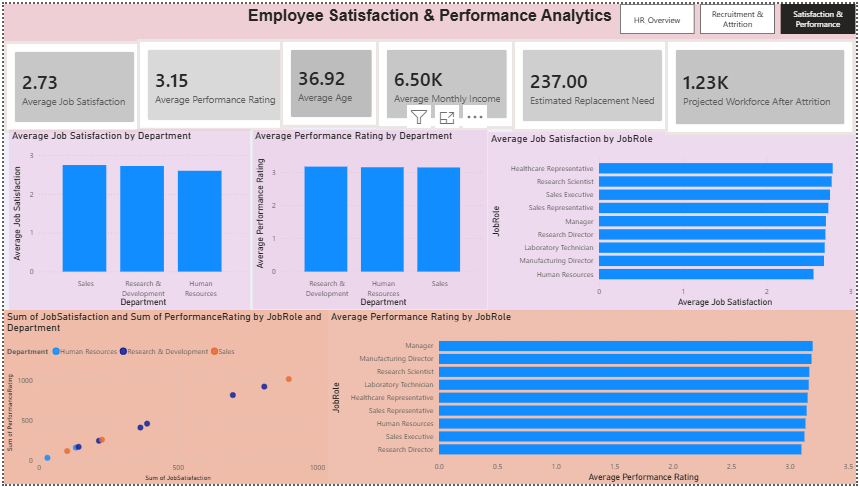

This screenshot's page, from the dashboard's own definition file:
{"tool":"powerbi","page":{"name":"Satisfaction & Performance","canvas":[1420,800],"ordinal":2},"visuals":[{"type":"textbox","box":[0,0,1420,61.7],"z":0},{"type":"cardVisual","fields":{"Data":["HR_Data.Average Job Satisfaction"]},"box":[0,61.7,235,153.3],"z":1000},{"type":"cardVisual","fields":{"Data":["HR_Data.Average Performance Rating"]},"box":[221.4,58,259,153],"z":2000},{"type":"cardVisual","fields":{"Data":["HR_Data.Average Age"]},"box":[460,58.3,171.7,148.3],"z":3000},{"type":"cardVisual","fields":{"Data":["HR_Data.Average Monthly Income"]},"box":[620,58.3,236.7,150],"z":4000},{"type":"clusteredColumnChart","fields":{"Category":["HR_Data.Department"],"Y":["HR_Data.Average Job Satisfaction"]},"box":[8.3,208.3,401.7,301.7],"z":5000},{"type":"clusteredColumnChart","fields":{"Category":["HR_Data.Department"],"Y":["HR_Data.Average Performance Rating"]},"box":[413.3,208.3,393.3,301.7],"z":6000},{"type":"scatterChart","fields":{"X":["Sum(HR_Data.JobSatisfaction)"],"Y":["Sum(HR_Data.PerformanceRating)"],"Series":["HR_Data.Department"],"Category":["HR_Data.JobRole"]},"box":[0,510,540,290],"z":7000},{"type":"barChart","fields":{"Category":["HR_Data.JobRole"],"Y":["HR_Data.Average Performance Rating"]},"box":[540,510,880,291.7],"z":8000},{"type":"barChart","fields":{"Category":["HR_Data.JobRole"],"Y":["HR_Data.Average Job Satisfaction"]},"box":[806.7,213.3,613.3,296.7],"z":9000},{"type":"cardVisual","fields":{"Data":["HR_Data.Estimated Replacement Need"]},"box":[846.7,58.3,268.3,155],"z":10000},{"type":"cardVisual","title":"Projected Workforce","fields":{"Data":["HR_Data.Projected Workforce After Attrition"]},"box":[1102.4,58,317.6,160.3],"z":11000},{"type":"pageNavigator","box":[1027,0,393.2,50],"z":11001}]}

Visuals, with their boxes in screenshot pixels (x1, y1, x2, y2), scaled from the page's 1420x800 canvas onto the 859x487 screenshot:
textbox: rect(0, 0, 858, 38)
cardVisual - HR_Data.Average Job Satisfaction: rect(0, 38, 142, 131)
cardVisual - HR_Data.Average Performance Rating: rect(134, 35, 291, 128)
cardVisual - HR_Data.Average Age: rect(278, 35, 382, 126)
cardVisual - HR_Data.Average Monthly Income: rect(375, 35, 518, 127)
clusteredColumnChart - HR_Data.Department x HR_Data.Average Job Satisfaction: rect(5, 127, 248, 310)
clusteredColumnChart - HR_Data.Department x HR_Data.Average Performance Rating: rect(250, 127, 488, 310)
scatterChart - Sum(HR_Data.JobSatisfaction) x Sum(HR_Data.PerformanceRating): rect(0, 310, 327, 486)
barChart - HR_Data.JobRole x HR_Data.Average Performance Rating: rect(327, 310, 858, 486)
barChart - HR_Data.JobRole x HR_Data.Average Job Satisfaction: rect(488, 130, 858, 310)
cardVisual - HR_Data.Estimated Replacement Need: rect(512, 35, 674, 130)
"Projected Workforce" cardVisual: rect(667, 35, 858, 133)
pageNavigator: rect(621, 0, 858, 30)
